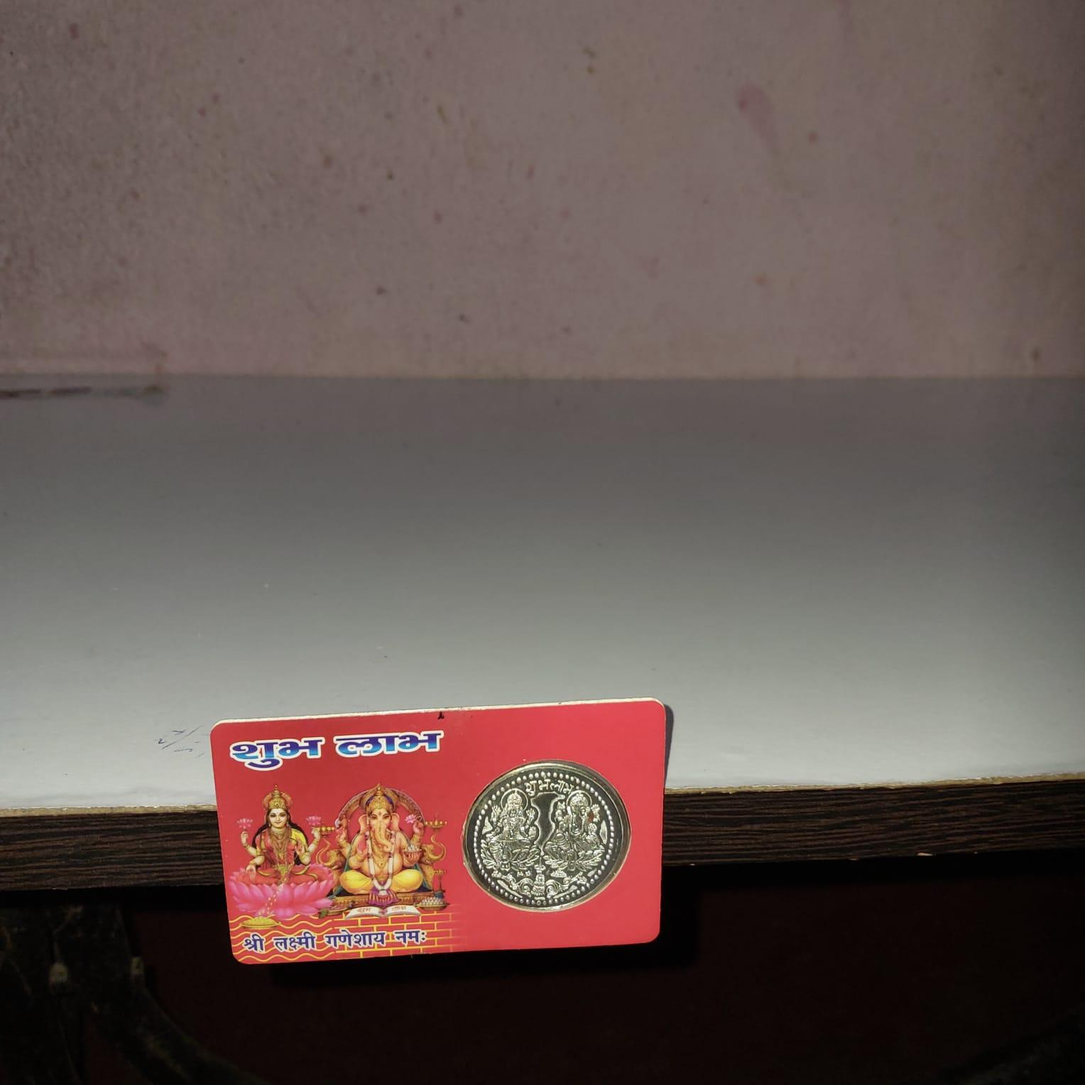blessing_card: (205, 704, 670, 966)
